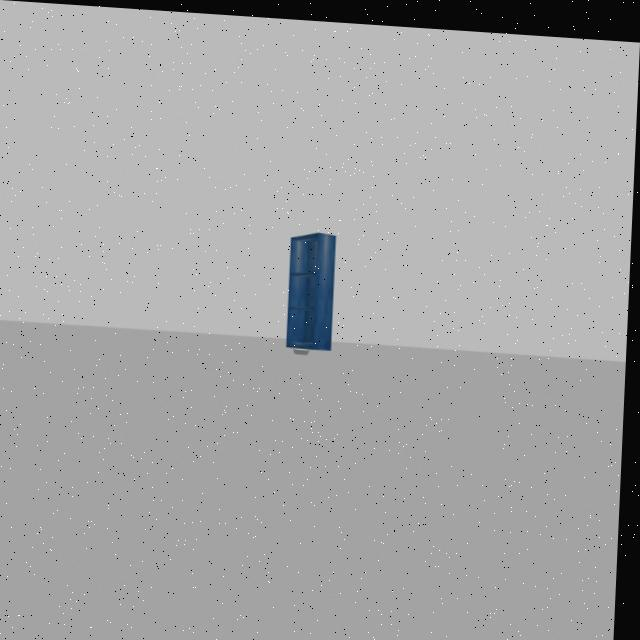bowl: (295, 337, 317, 358)
shelf: (282, 219, 345, 347)
